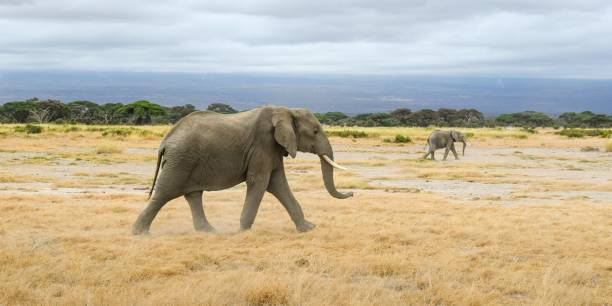africanelephant: (273, 110, 350, 175)
